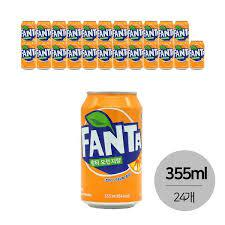fanta_orange: (76, 88, 147, 212), (188, 41, 205, 73), (109, 42, 127, 72), (173, 38, 189, 71), (50, 39, 66, 71), (67, 39, 82, 71), (142, 41, 158, 70), (159, 39, 173, 72), (81, 41, 96, 71), (20, 40, 34, 71), (96, 41, 110, 72), (128, 44, 142, 72), (34, 41, 47, 71)
